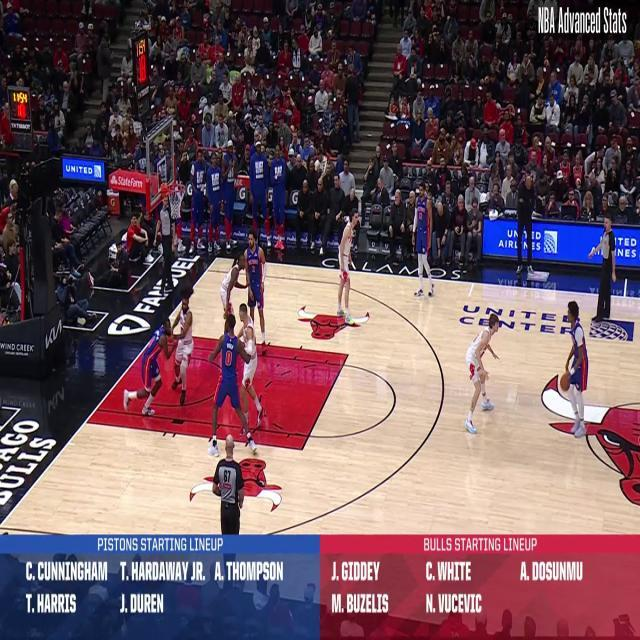ball: (559, 369, 571, 395)
player: (206, 311, 258, 459), (122, 316, 178, 418), (464, 311, 501, 436), (557, 298, 589, 439), (235, 301, 266, 433), (242, 226, 270, 354), (410, 182, 438, 302), (170, 285, 194, 407), (336, 206, 360, 326), (218, 250, 250, 322)
